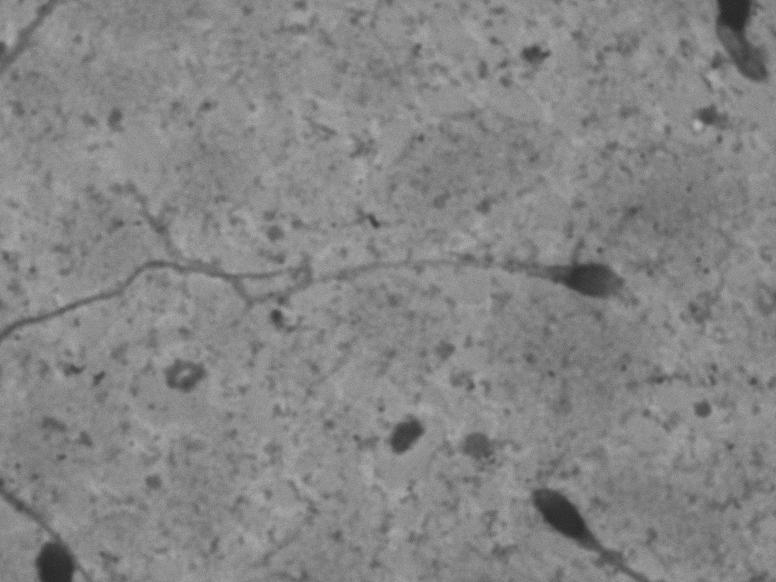Abnormal: (127, 173, 666, 348)
